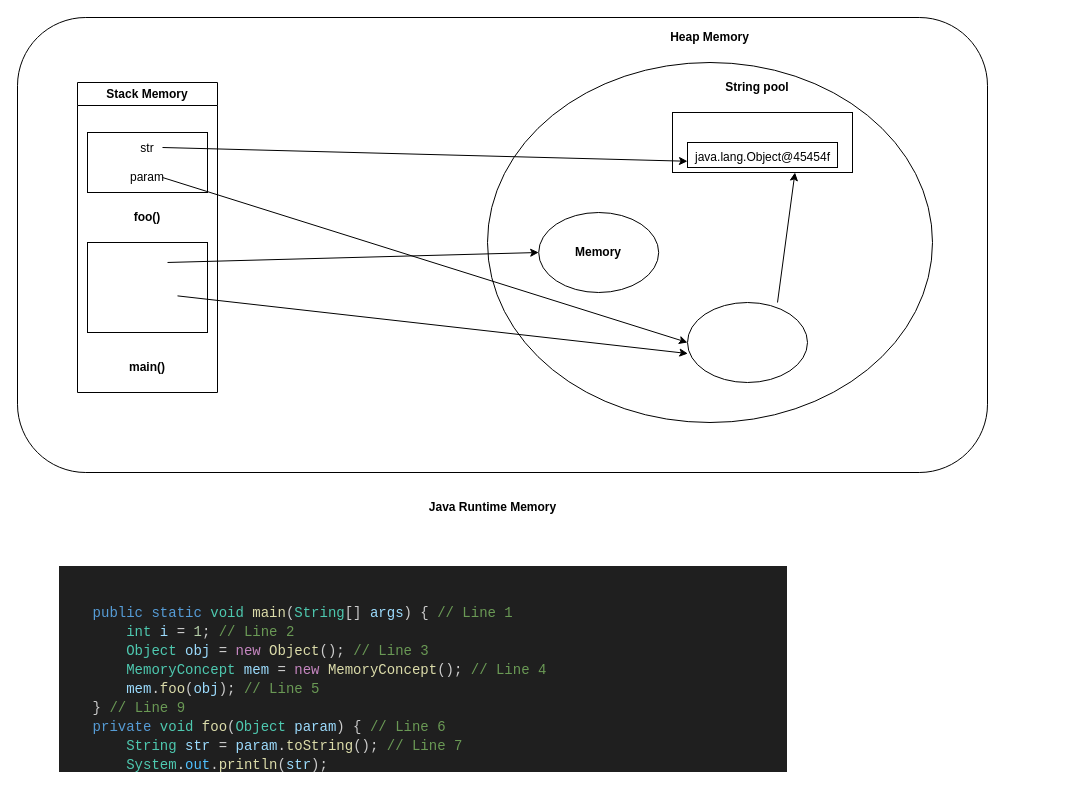
Image size: 1075x790. Some labels were removed from this diagram. The centre of each missing label's shape, as x and y in pixels:
"mem obj int i =1" belongs at (147,287).
"Object" belongs at (747,342).
